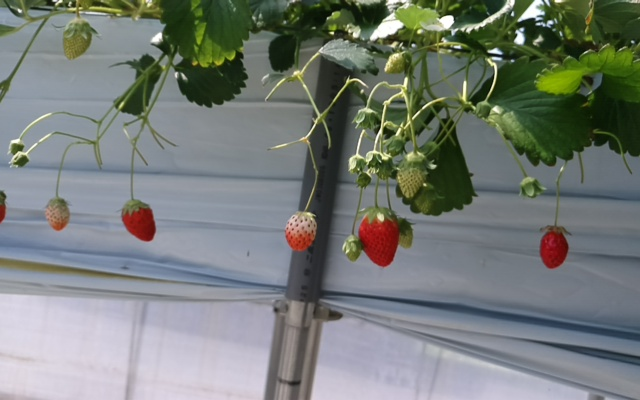GreenStrawberry: (396, 152, 429, 198), (61, 17, 93, 63), (44, 196, 71, 232), (414, 183, 438, 217), (383, 50, 411, 77), (396, 217, 416, 249), (343, 237, 364, 264)
MatureStrawberry: (358, 207, 399, 269), (120, 198, 157, 244), (538, 226, 571, 273), (283, 209, 317, 253)
